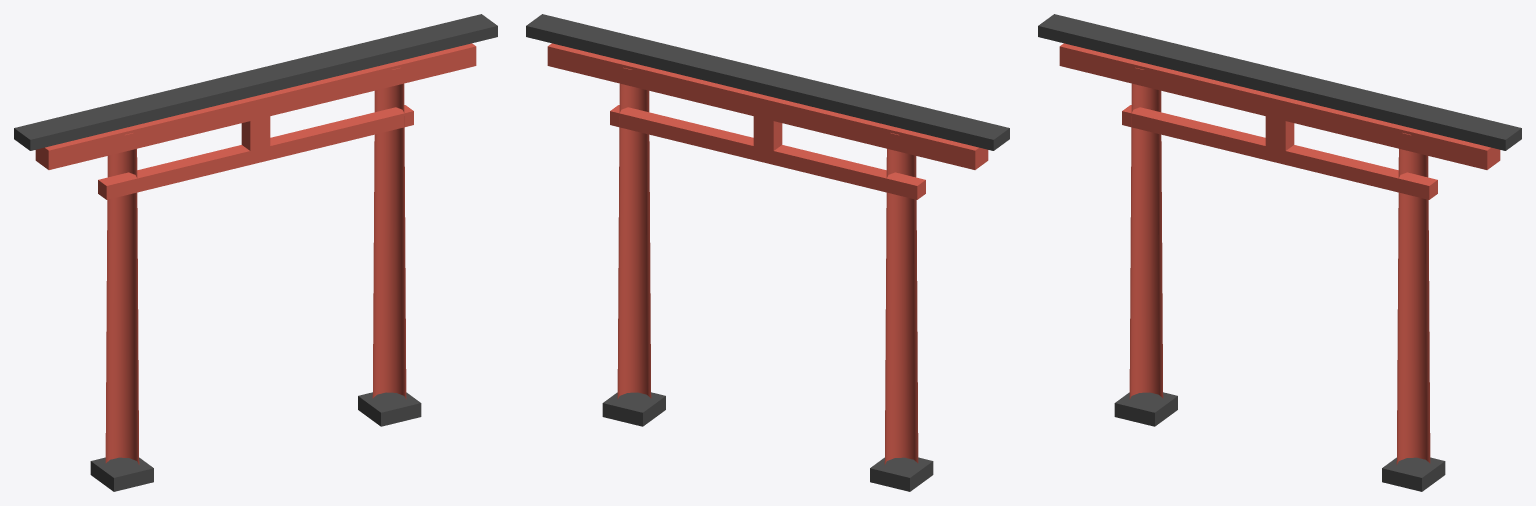
File: torii_gate.glb
3 views of the same model, side by side, from view 1: azimuth 30°, elevation 25°; view 2: azimuth 150°, elevation 25°; view 3: azimuth 330°, elevation 25° (orthographic).
Visible parts, largest first — view 1: torii_gate; view 2: torii_gate; view 3: torii_gate.
Part boxes in pixels (bbox=[...]): torii_gate: bbox=[14, 14, 497, 491]; torii_gate: bbox=[526, 14, 1009, 491]; torii_gate: bbox=[1038, 14, 1521, 491].
Size of the model in its own units: 7 by 5.28 by 0.6.
